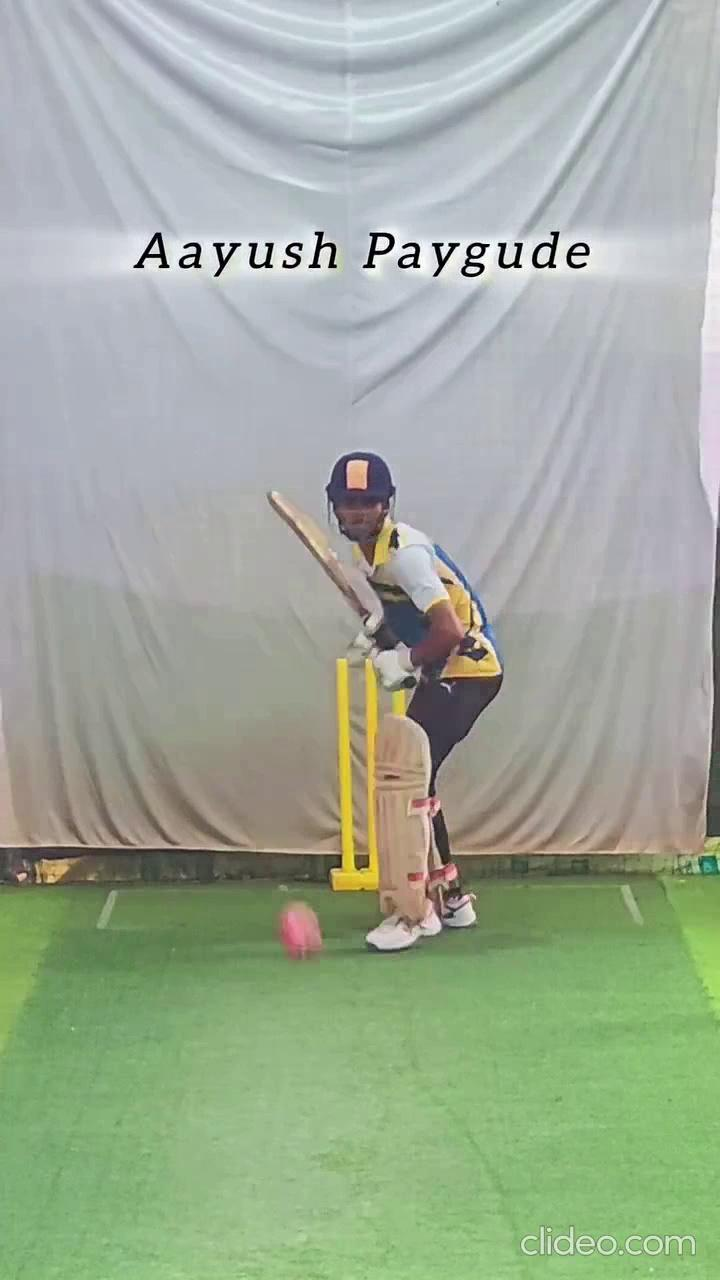bat: (263, 476, 384, 620)
